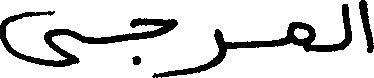ا: (358, 0, 373, 54)
ج: (129, 16, 176, 67)
ر: (187, 26, 225, 74)
ل: (340, 2, 352, 50)
م: (287, 20, 315, 53)
ى: (0, 9, 81, 67)
